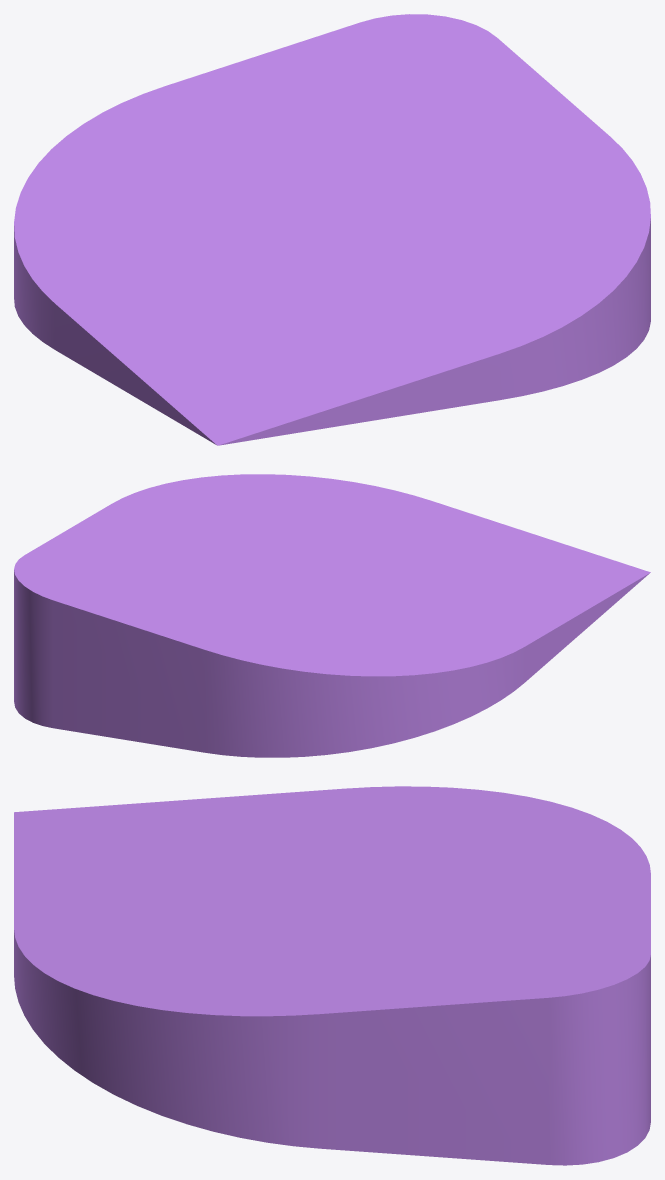
The model's file is Carbshape.gltf.
3 views of the same model, one above another, from view 1: azimuth 30°, elevation 25°; view 2: azimuth 150°, elevation 25°; view 3: azimuth 270°, elevation 25° (orthographic). The views are drawn at different scales.
Parts seen in each view (by area): view 1: Cube; view 2: Cube; view 3: Cube.
Part boxes in pixels (x1=…): Cube: x1=14, y1=14, x2=650, y2=445; Cube: x1=14, y1=474, x2=650, y2=757; Cube: x1=14, y1=786, x2=650, y2=1165.
Bounding box in the file's own units: 50 × 15 × 50.
